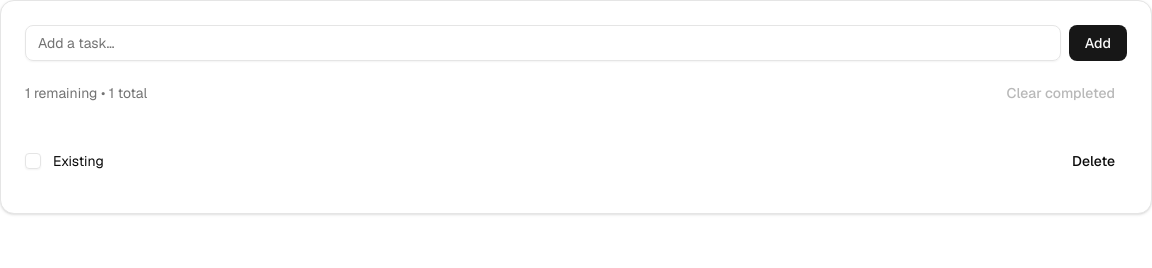
Scenario: TodoApp › shows an error when updating a task fails
Click the checkbox named "Mark \"Existing\" as completed": (33, 161) x1=25 y1=153 x2=41 y2=169
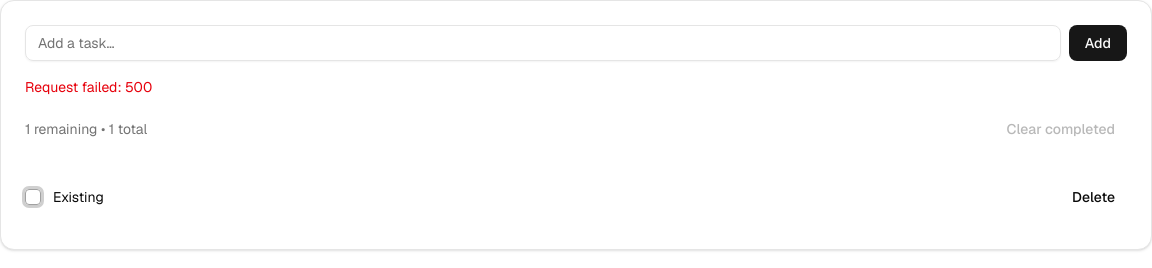
Now the message reads "Request failed: 500", box x1=25 y1=78 x2=152 y2=96
